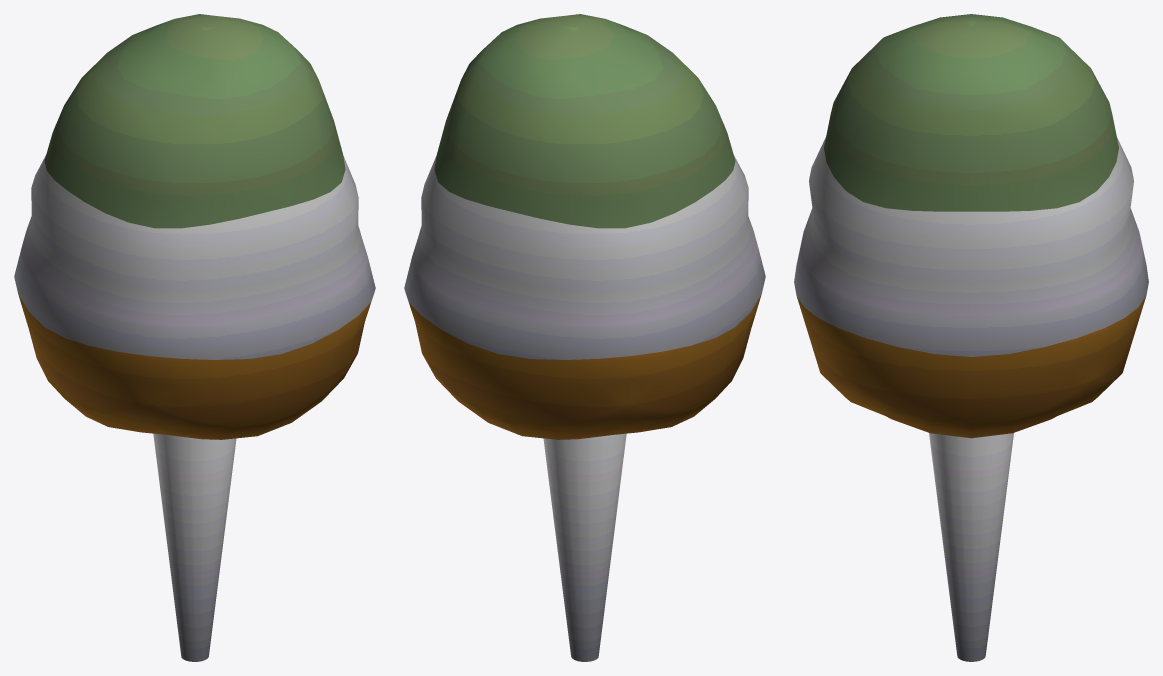
The model's file is SM_Fairyfloss_IrishFlavour.fbx.
The picture shows the model from 3 angles, left to right: view 1: azimuth 30°, elevation 25°; view 2: azimuth 150°, elevation 25°; view 3: azimuth 270°, elevation 25°; orthographic projection. The views are drawn at different scales.
Visible parts, largest first — view 1: SM_fairyfloss; view 2: SM_fairyfloss; view 3: SM_fairyfloss.
Boxes of the visible parts, bbox=[...] form: SM_fairyfloss: bbox=[14, 14, 375, 661]; SM_fairyfloss: bbox=[404, 14, 765, 661]; SM_fairyfloss: bbox=[794, 14, 1148, 661].
Size of the model in its own units: 3.04 by 6.05 by 3.04.
